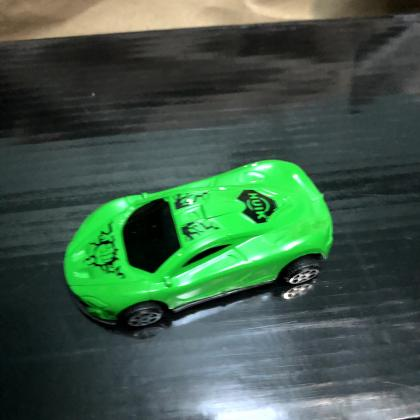Car: (63, 159, 334, 330)
